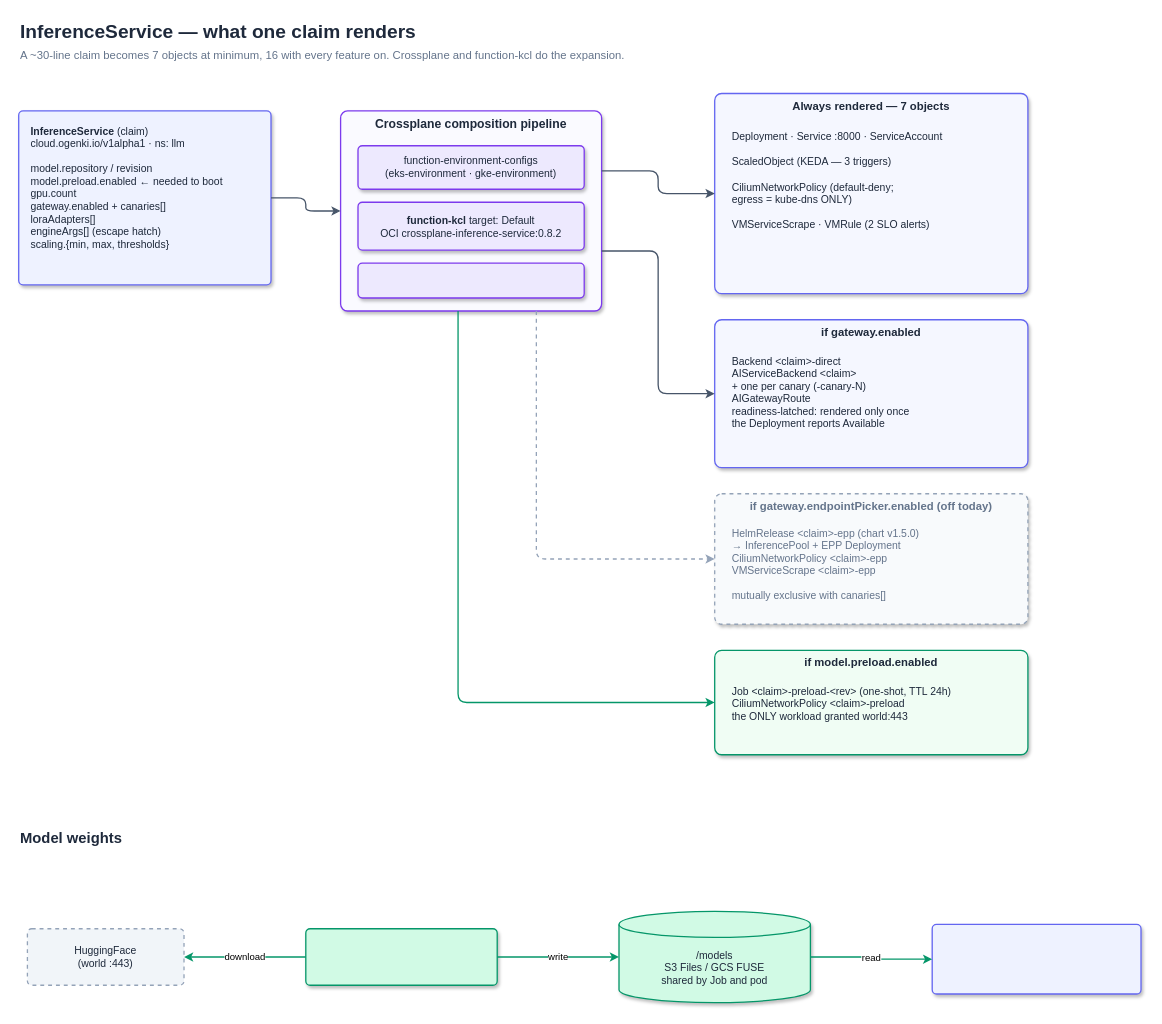
Some shapes in this 1162 by 1024 pixel diagram are drawn without their labels. Here are the shapes that lost their labels. From the top down, the centre of each, then its label:
pixel 471 281: function-auto-ready
pixel 402 958: preload Job huggingface-cli download
pixel 1037 960: vLLM serving pod egress: kube-dns ONLY --model /models/<revision>
